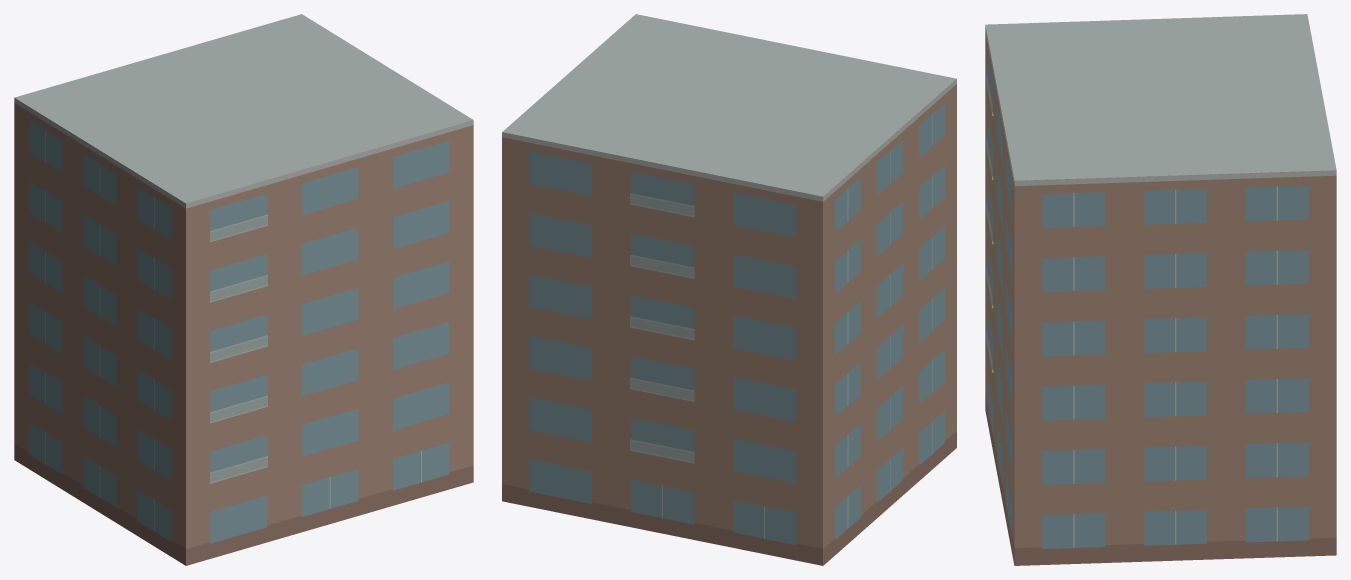
Rendered from survey-upis-32738053.glb.
3 views of the same model, side by side, from view 1: azimuth 30°, elevation 25°; view 2: azimuth 150°, elevation 25°; view 3: azimuth 270°, elevation 25° (orthographic). The views are drawn at different scales.
Visible parts, largest first — view 1: survey-upis-32738053.tmp; view 2: survey-upis-32738053.tmp; view 3: survey-upis-32738053.tmp.
Boxes of the visible parts, bbox=[...] form: survey-upis-32738053.tmp: bbox=[14, 14, 473, 565]; survey-upis-32738053.tmp: bbox=[502, 14, 956, 565]; survey-upis-32738053.tmp: bbox=[985, 14, 1336, 565].
Bounding box in the file's own units: 16.17 × 17.4 × 14.4.
